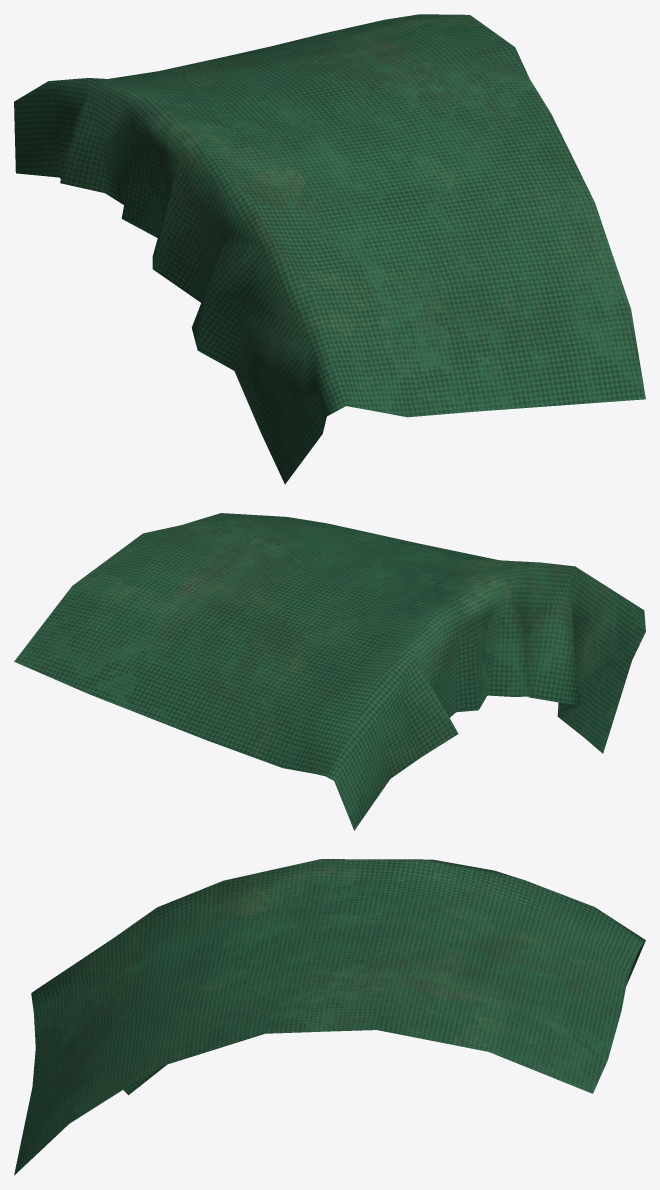
The model's file is greenHouse_shade_front.fbx.
3 renders of one model, top to bottom at view 1: azimuth 30°, elevation 25°; view 2: azimuth 150°, elevation 25°; view 3: azimuth 270°, elevation 25°, orthographic. The views are drawn at different scales.
Parts seen in each view (by area): view 1: greenHouse_shade_front; view 2: greenHouse_shade_front; view 3: greenHouse_shade_front.
Boxes of the visible parts, left/top/right/bottom form: greenHouse_shade_front: left=14, top=14, right=645, bottom=484; greenHouse_shade_front: left=14, top=513, right=645, bottom=830; greenHouse_shade_front: left=14, top=859, right=645, bottom=1175.
Size of the model in its own units: 252 by 152 by 357.
